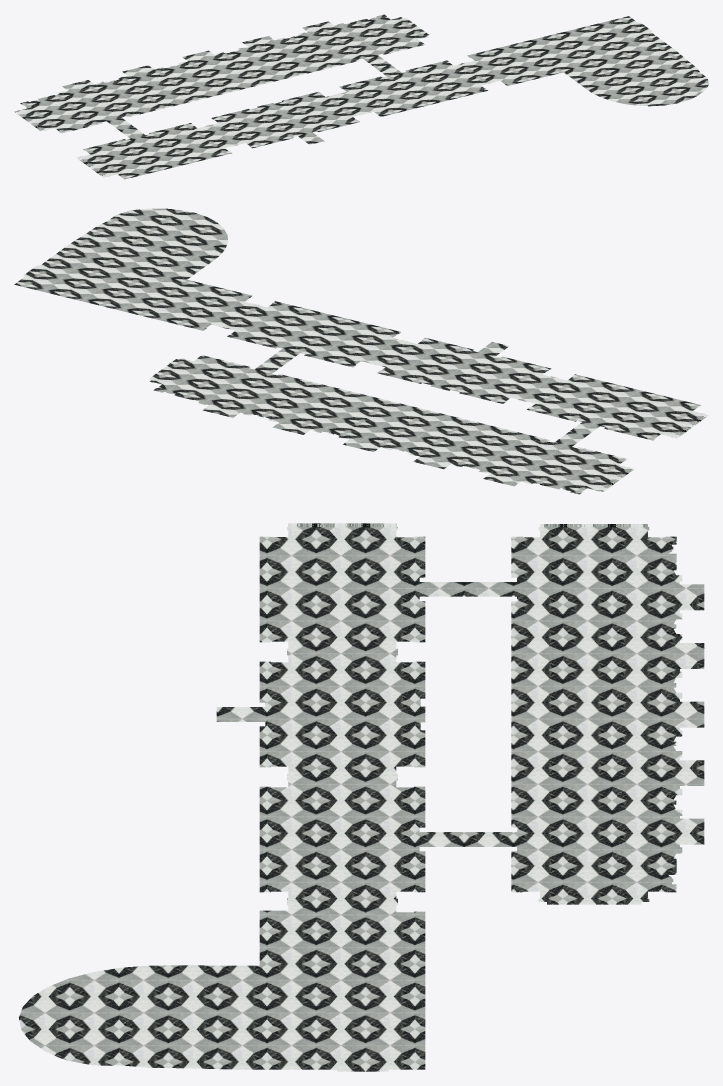
Rendered from floor.obj.
3 renders of one model, top to bottom at view 1: azimuth 30°, elevation 25°; view 2: azimuth 150°, elevation 25°; view 3: azimuth 270°, elevation 25°, orthographic. The views are drawn at different scales.
Bounding box in the file's own units: 64.27 × 0.0047 × 33.96.
Materials: 1 (1 with a texture image).
